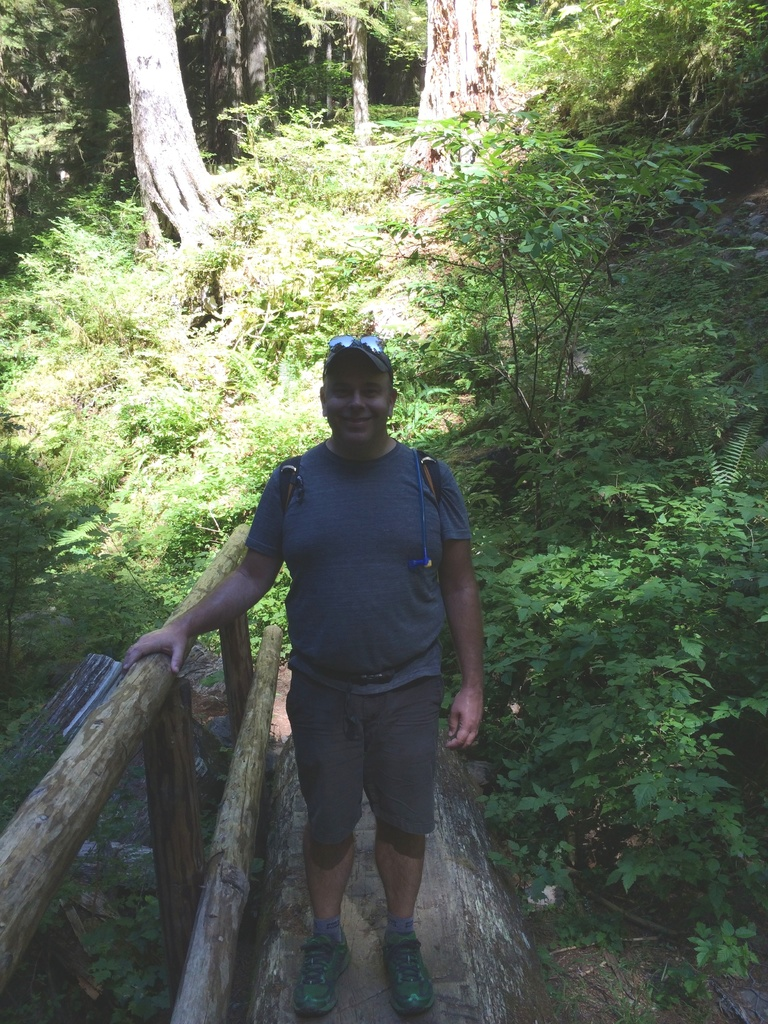Person: (120, 329, 491, 1022)
